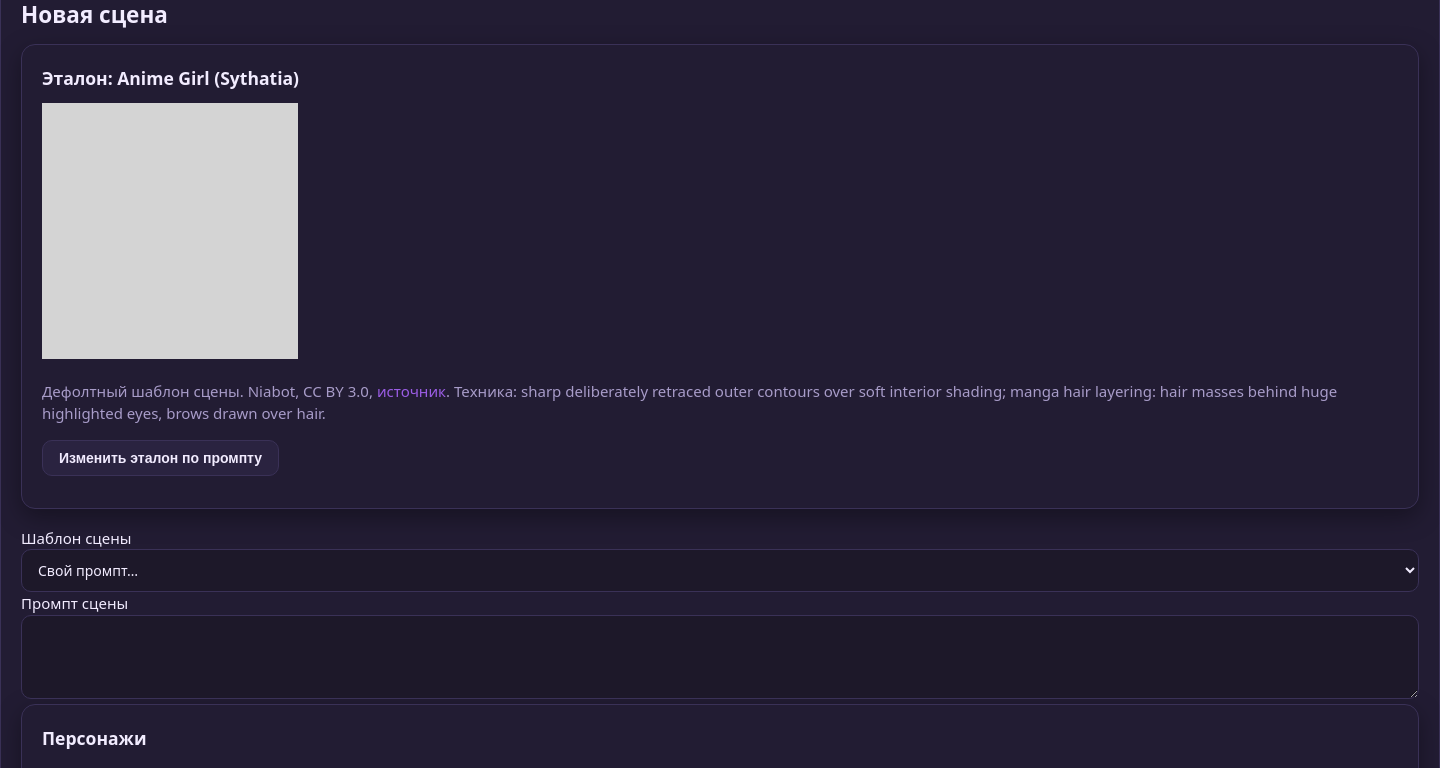
Test: SceneComposer (cast + missing proposals + paused queue) › proposes to draw deleted cast and pauses the prompt without losing it
Step 1. Type "битва на мосту" into the text box labelled "Промпт сцены" → (720, 657), box [21,615,1419,699]
(page scrolled)
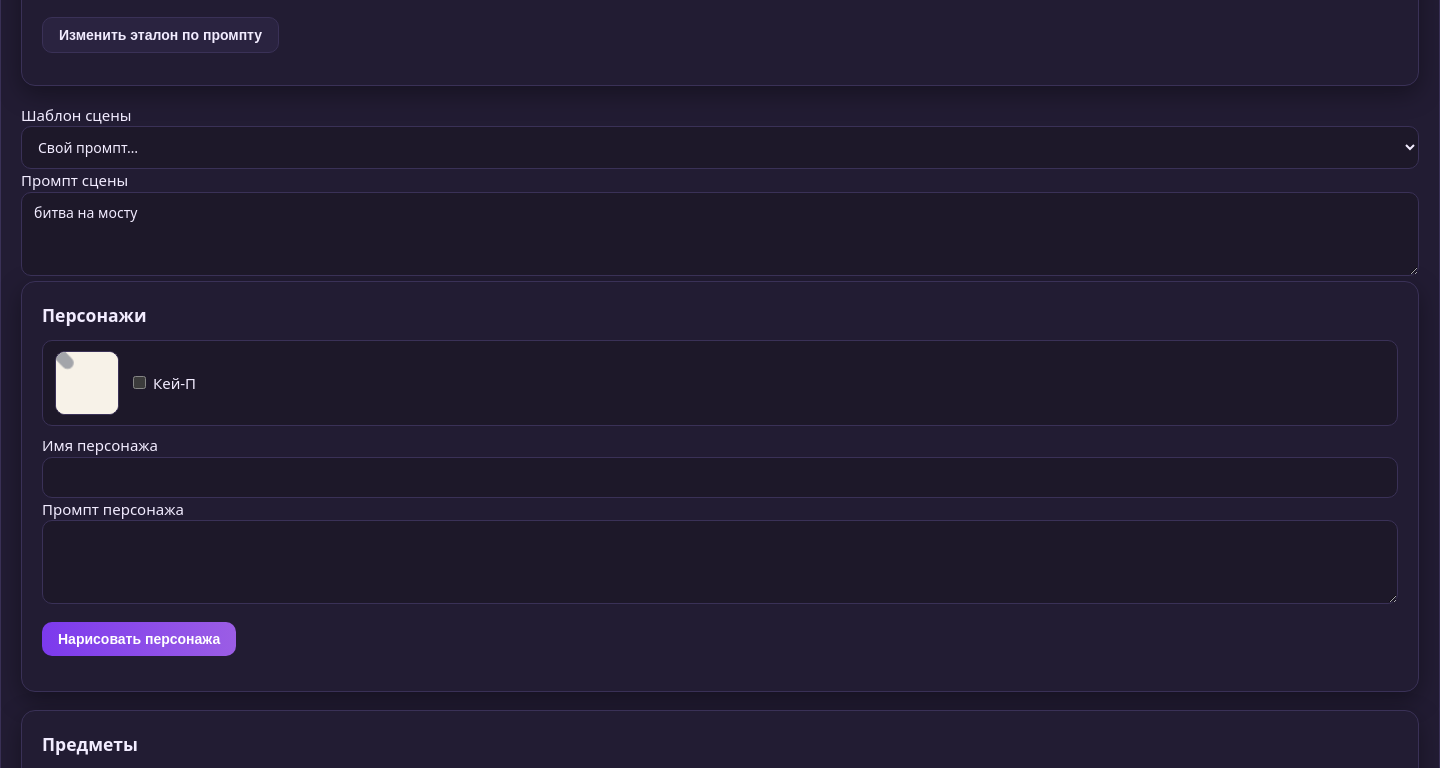
Step 2. Click the checkbox labelled "Кей-П" → (140, 383), box [133,376,146,389]
(page scrolled)
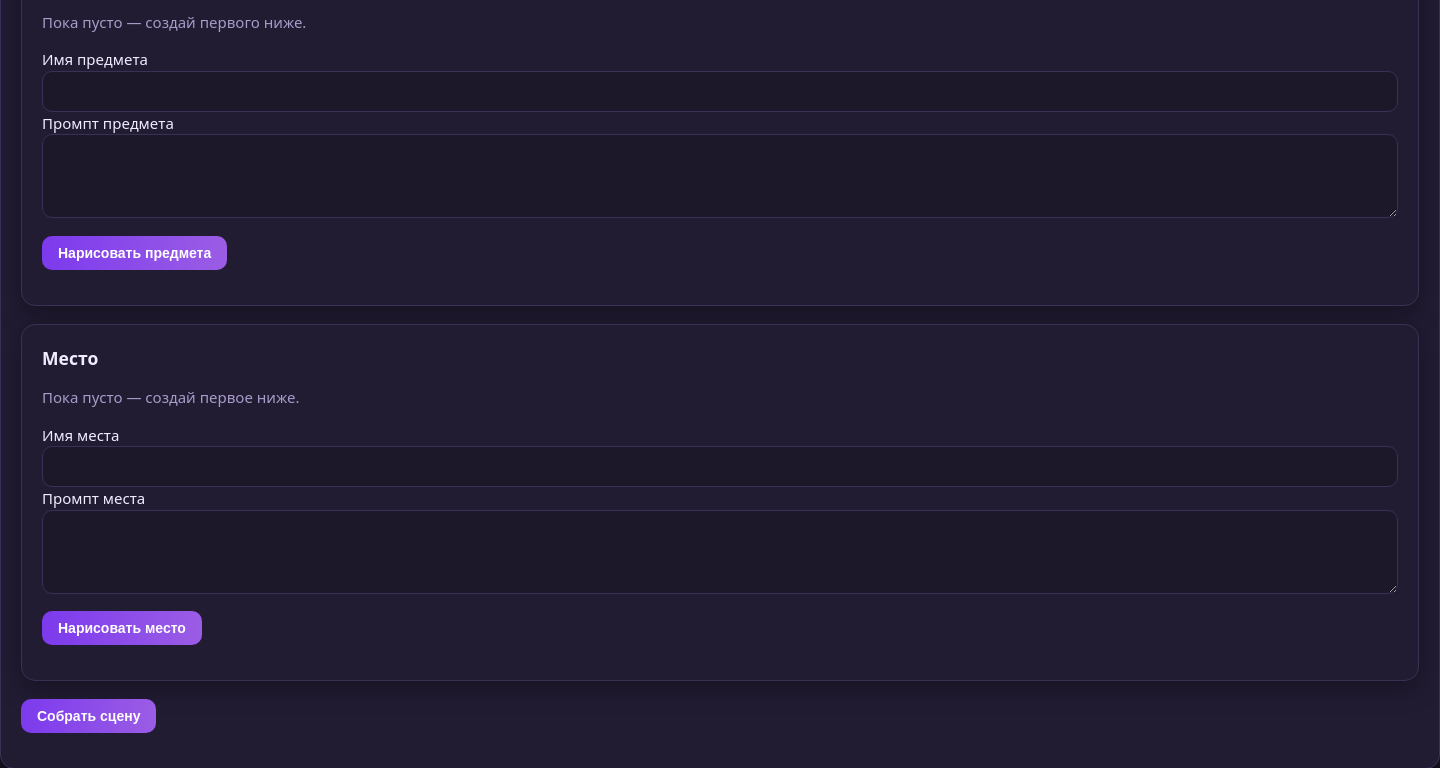
Step 3. Click the button "Собрать сцену" → (89, 716), box [21,699,156,733]
(page scrolled)
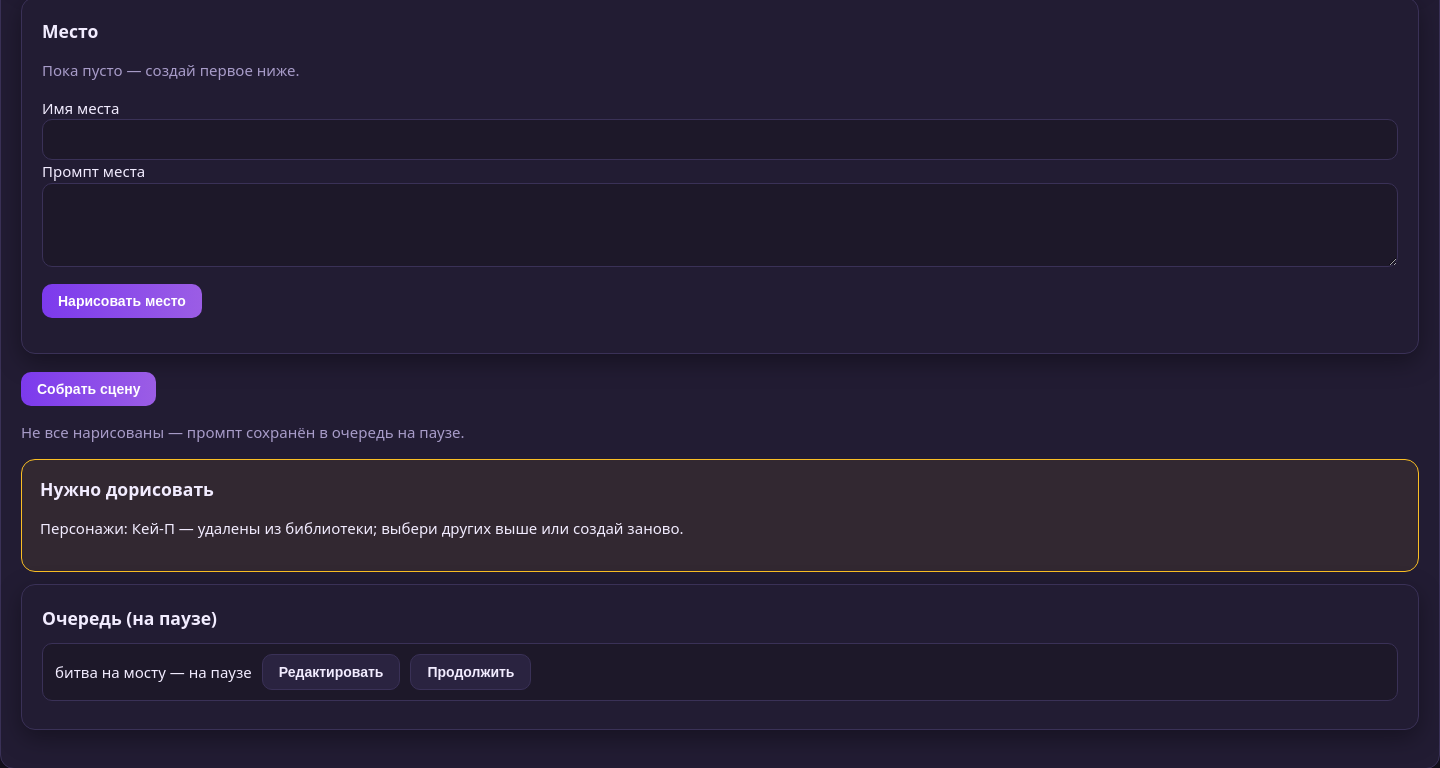
Result: the dialog with test id "missing-dialog" is shown at [21,459,1419,572]
Result: the text "Кей-П" is shown at [132,518,175,538]
Result: the text "битва на мосту — на паузе" is shown at [55,661,252,683]
